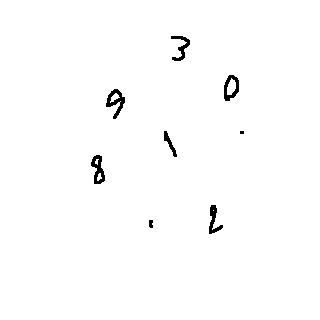.: (232, 122, 257, 145), (146, 212, 163, 232)
0: (218, 64, 245, 106)
1: (154, 130, 186, 167)
2: (198, 196, 232, 242)
3: (167, 30, 194, 71)
8: (86, 147, 113, 190)
9: (100, 88, 135, 124)
